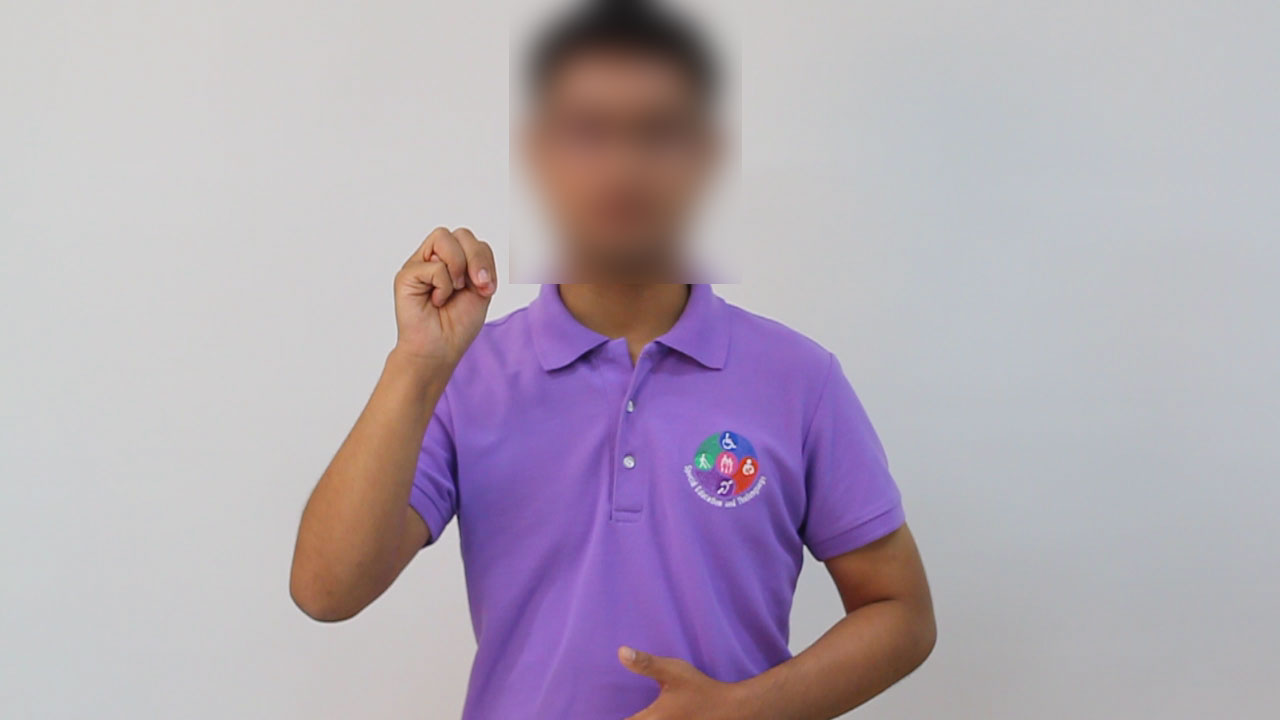mor: (381, 208, 503, 362)
